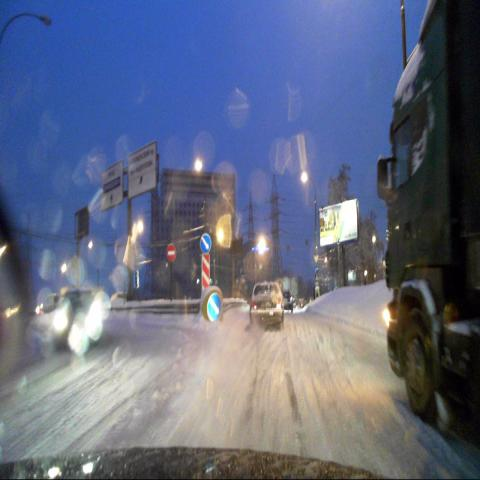3_1: (166, 243, 176, 263)
4_2_1: (206, 290, 223, 322), (199, 232, 212, 254)
